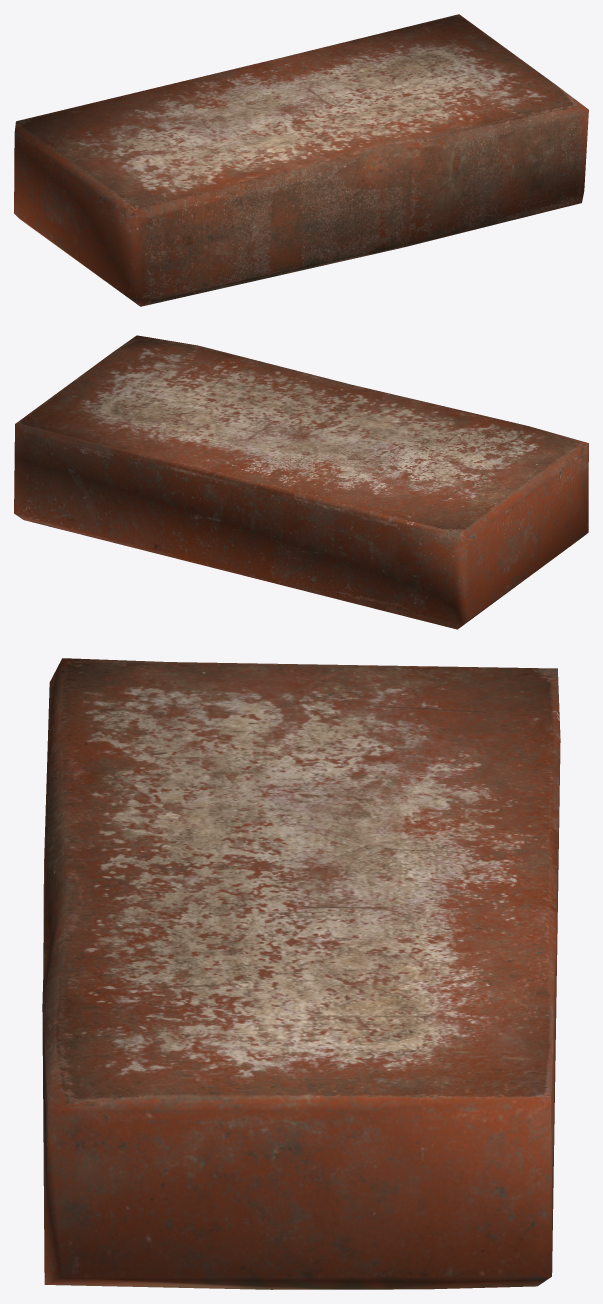
Rendered from OldBrick01.fbx.
3 views of the same model, one above another, from view 1: azimuth 30°, elevation 25°; view 2: azimuth 150°, elevation 25°; view 3: azimuth 270°, elevation 25° (orthographic). The views are drawn at different scales.
Visible parts, largest first — view 1: OldBrick01; view 2: OldBrick01; view 3: OldBrick01.
Boxes of the visible parts, box(x1,y1,x2,y2) form: OldBrick01: box(14, 14, 588, 306); OldBrick01: box(14, 335, 588, 629); OldBrick01: box(42, 658, 560, 1289).
Bounding box in the file's own units: 0.31 × 0.0662 × 0.1529.
